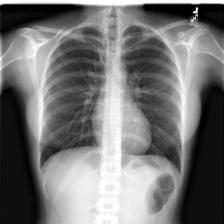normal: (38, 20, 184, 175)
